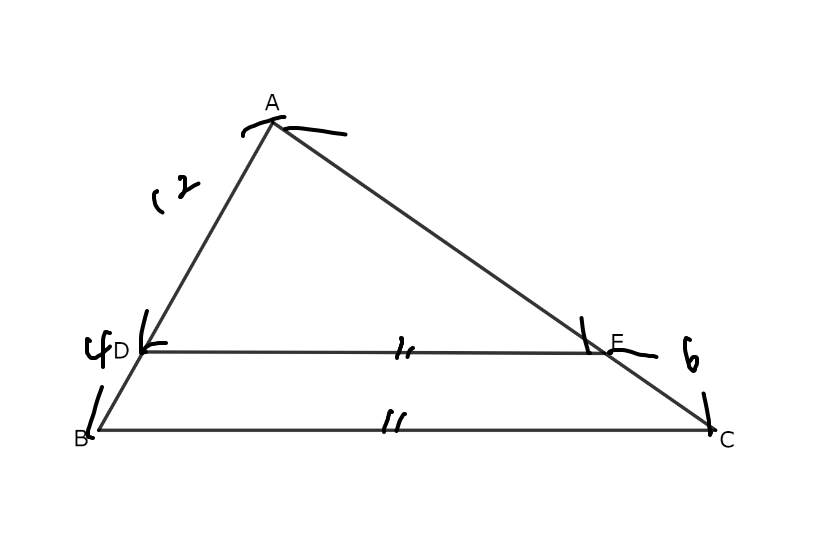Edge_Dline: (391, 326, 418, 367), (376, 403, 410, 435)
